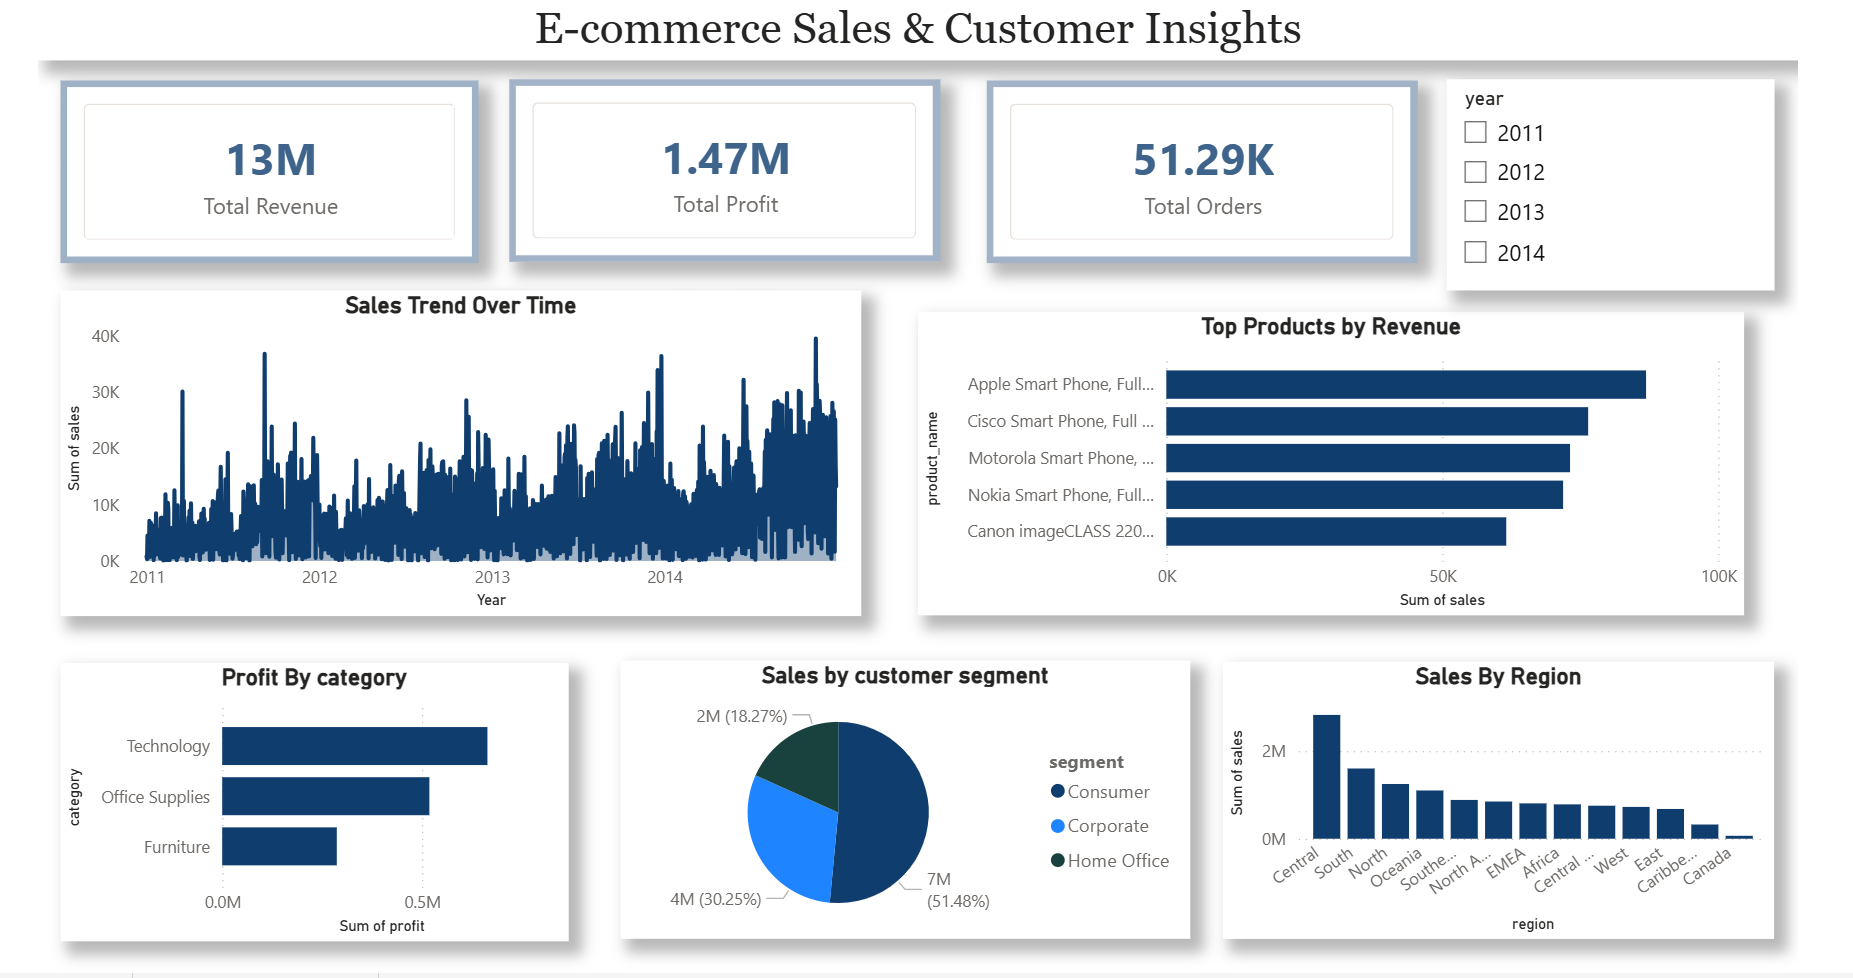

The dashboard page shown, as its layout file describes it:
{"tool":"powerbi","page":{"name":"Page 1","canvas":[1280,720],"ordinal":0},"visuals":[{"type":"textbox","box":[0,9.4,1280.3,47.1],"z":0},{"type":"cardVisual","fields":{"Data":["Sum(cleaned_superstoreorders.sales)"]},"box":[16.3,70.6,304.1,133.1],"z":1000},{"type":"cardVisual","fields":{"Data":["Sum(cleaned_superstoreorders.profit)"]},"box":[342.9,69.9,313.3,133.1],"z":2000},{"type":"cardVisual","fields":{"Data":["CountNonNull(cleaned_superstoreorders.order_id)"]},"box":[689.7,70.6,313.6,133.1],"z":3000},{"type":"lineChart","title":"Sales Trend Over Time","fields":{"Y":["Sum(cleaned_superstoreorders.sales)"],"Category":["cleaned_superstoreorders.order_date.Variation.Date Hierarchy.Year","cleaned_superstoreorders.order_date.Variation.Date Hierarchy.Quarter","cleaned_superstoreorders.order_date.Variation.Date Hierarchy.Month","cleaned_superstoreorders.order_date.Variation.Date Hierarchy.Day"]},"box":[16.1,223.2,582.3,236.7],"z":4000},{"type":"barChart","title":"Top Products by Revenue","fields":{"Category":["cleaned_superstoreorders.product_name"],"Y":["Sum(cleaned_superstoreorders.sales)"]},"box":[640.1,239.4,601.1,220.6],"z":5000},{"type":"clusteredColumnChart","title":"Sales By Region","fields":{"Category":["cleaned_superstoreorders.region"],"Y":["Sum(cleaned_superstoreorders.sales)"]},"box":[862,493.6,400.8,201.7],"z":6000},{"type":"clusteredBarChart","title":"Profit By category","fields":{"Category":["cleaned_superstoreorders.category"],"Y":["Sum(cleaned_superstoreorders.profit)"]},"box":[16.3,494.2,369.3,202.3],"z":7000},{"type":"pieChart","title":"Sales by customer segment","fields":{"Category":["cleaned_superstoreorders.segment"],"Y":["Sum(cleaned_superstoreorders.sales)"]},"box":[423.6,492.8,414.1,202.3],"z":8000},{"type":"slicer","fields":{"Values":["cleaned_superstoreorders.year"]},"box":[1024.8,69.9,238,153.3],"z":11000}]}

Visuals, with their boxes on the page's 1280x720 design canvas (x1, y1, x2, y2). These are canvas units, not pixel positions in the 1853x978 screenshot, which may show the page scaled, cropped or inside an application window:
textbox: 0, 9, 1280, 56
cardVisual - Sum(cleaned_superstoreorders.sales): 16, 71, 320, 204
cardVisual - Sum(cleaned_superstoreorders.profit): 343, 70, 656, 203
cardVisual - CountNonNull(cleaned_superstoreorders.order_id): 690, 71, 1003, 204
"Sales Trend Over Time" lineChart: 16, 223, 598, 460
"Top Products by Revenue" barChart: 640, 239, 1241, 460
"Sales By Region" clusteredColumnChart: 862, 494, 1263, 695
"Profit By category" clusteredBarChart: 16, 494, 386, 696
"Sales by customer segment" pieChart: 424, 493, 838, 695
slicer - cleaned_superstoreorders.year: 1025, 70, 1263, 223
